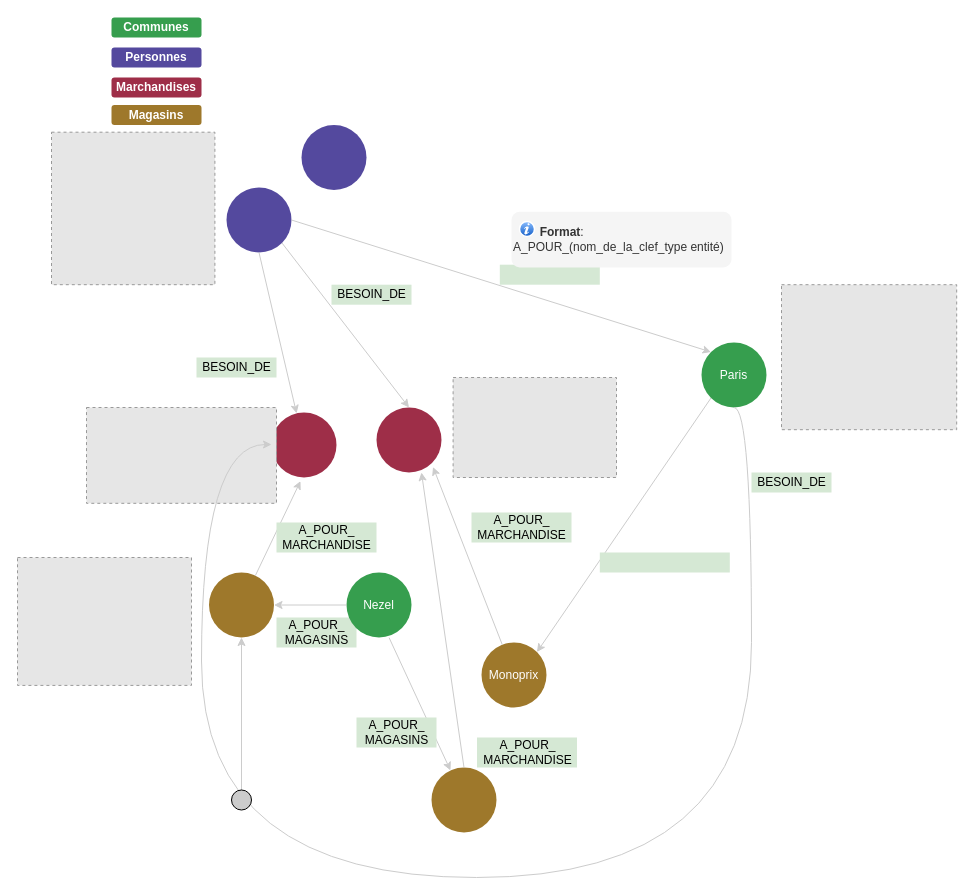
Image size: 975x895. Some labels were removed from this diagram. Grey dashed boxes stand in for pictures. Each missing label, with the centre of its shape:
A_POUR_MAGASINS: pixel 664 562
A_POUR_VILLE: pixel 549 274
Jacqueline: pixel 258 219
Leclerc: pixel 463 799
Paul: pixel 333 157
Pharmacie A: pixel 241 604
Vaccins: pixel 303 444
Ventilateurs: pixel 408 439
